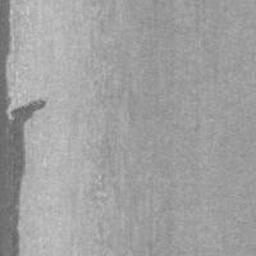Water spot: (0, 1, 47, 256)
